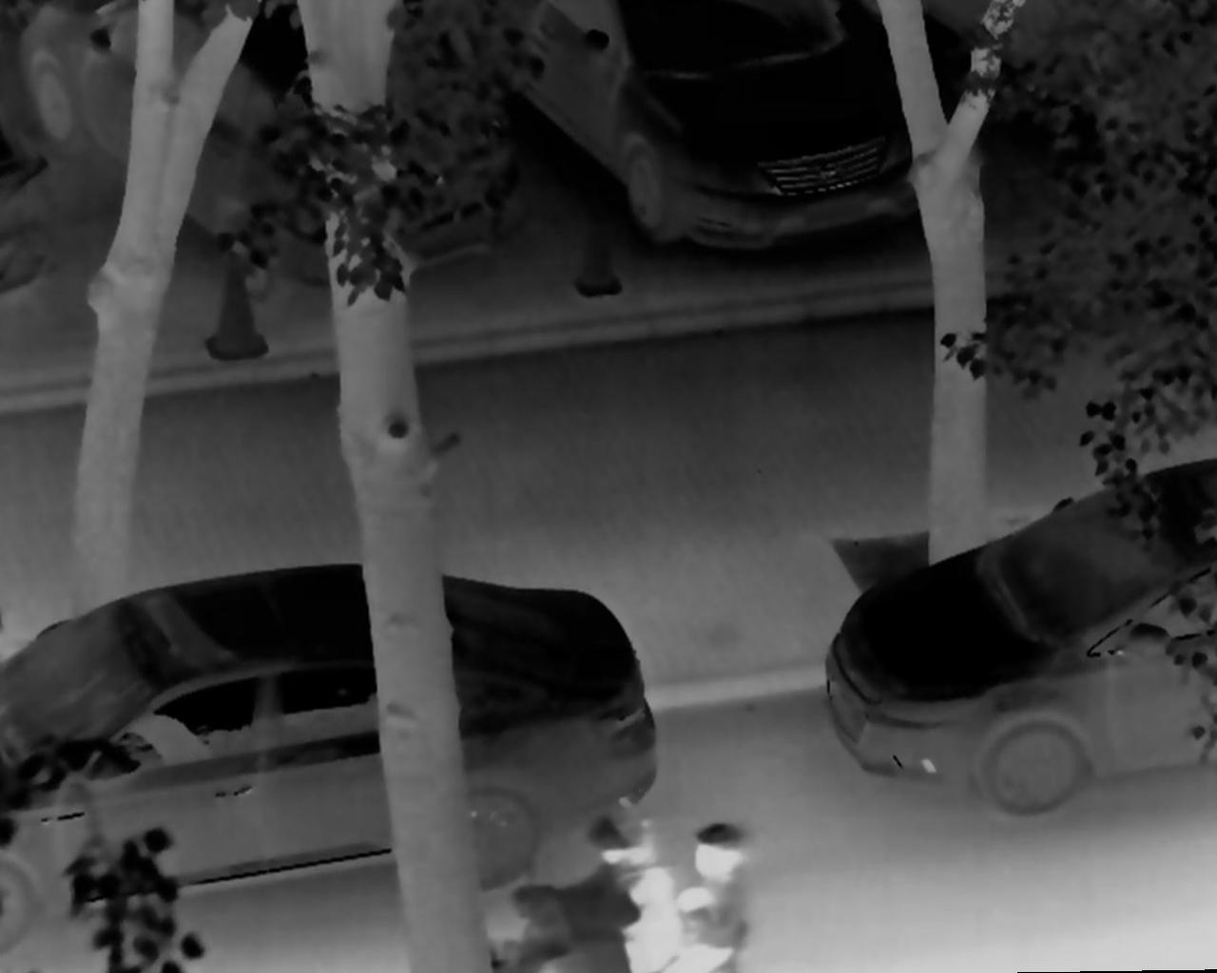person: (585, 810, 686, 973), (658, 822, 752, 973)
